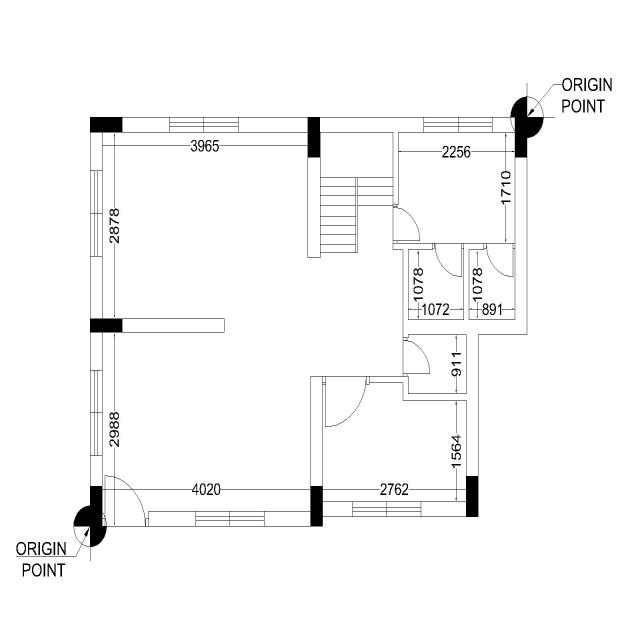Column: (466, 476, 478, 517), (90, 117, 122, 132), (308, 118, 320, 158), (515, 118, 527, 158), (310, 486, 322, 526), (90, 486, 102, 526), (90, 319, 123, 333)
Door: (321, 375, 371, 429), (104, 473, 148, 528), (431, 241, 466, 279), (482, 241, 517, 279), (391, 203, 422, 245), (402, 336, 432, 376)
Staircase: (318, 131, 396, 255)
Window: (88, 368, 105, 459), (88, 168, 105, 258), (167, 115, 241, 135), (193, 509, 266, 529), (350, 499, 422, 519), (422, 115, 494, 134)
